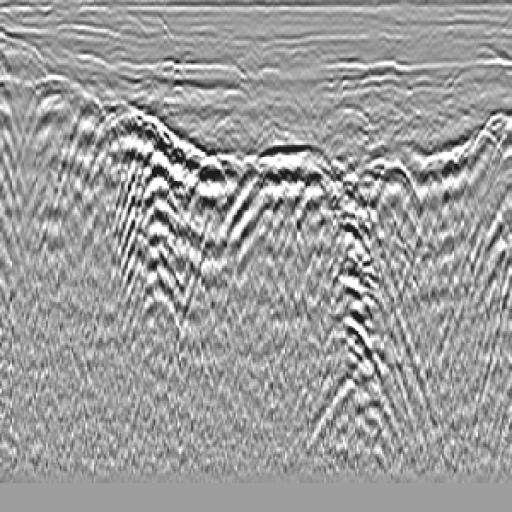metalic: (209, 117, 348, 304)
